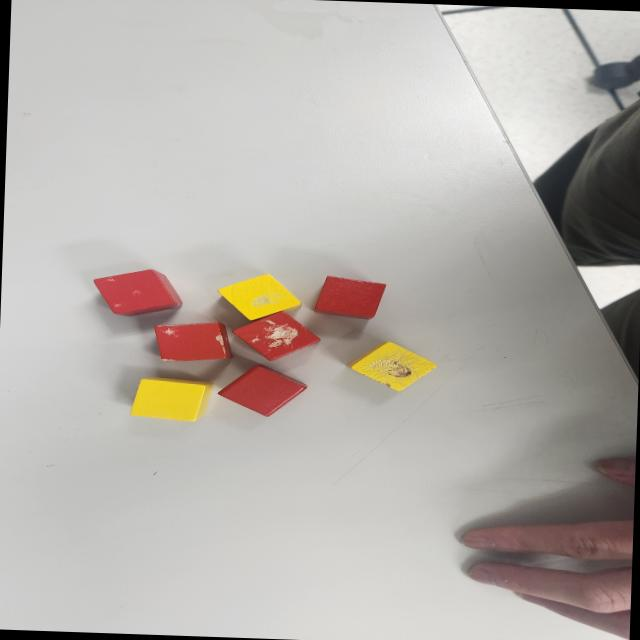broken: (230, 310, 324, 364), (90, 267, 183, 319), (346, 341, 434, 394), (216, 272, 304, 323), (153, 319, 235, 365)
red: (216, 362, 310, 420), (314, 275, 386, 320)
yellow: (128, 375, 213, 422)
